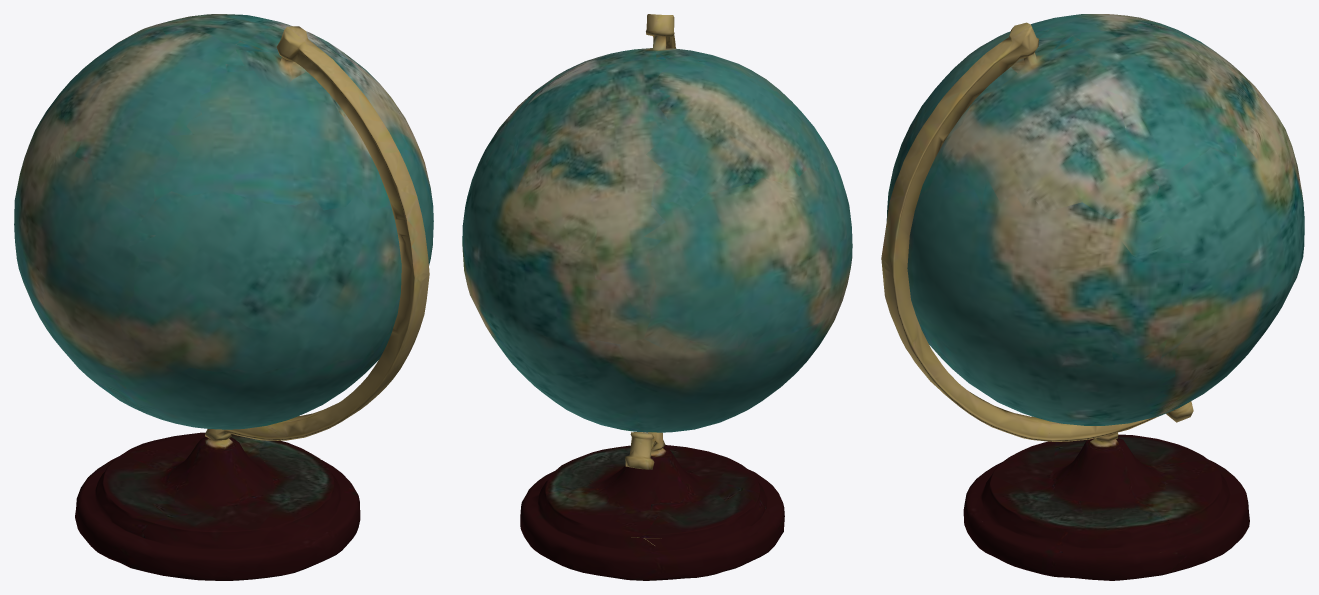
Rendered from globe-v1.glb.
The picture shows the model from 3 angles, left to right: view 1: azimuth 30°, elevation 25°; view 2: azimuth 150°, elevation 25°; view 3: azimuth 270°, elevation 25°; orthographic projection. The views are drawn at different scales.
Parts seen in each view (by area): view 1: prop__globe; view 2: prop__globe; view 3: prop__globe.
Boxes of the visible parts, <box> form: prop__globe: <box>14,14,433,580</box>; prop__globe: <box>462,14,852,580</box>; prop__globe: <box>881,14,1304,580</box>.
Bounding box in the file's own units: 0.3108 × 0.42 × 0.3135.
Materials: 1 (1 with a texture image).
